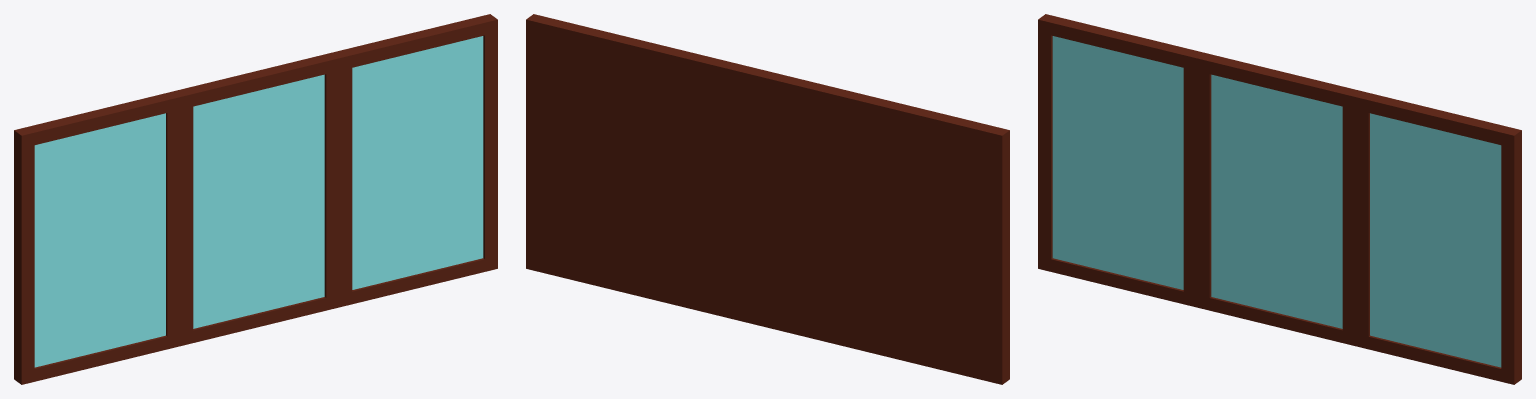
The model's file is window.fbx.
3 renders of one model, left to right at view 1: azimuth 30°, elevation 25°; view 2: azimuth 150°, elevation 25°; view 3: azimuth 330°, elevation 25°, orthographic.
Parts seen in each view (by area): view 1: Window; view 2: Window; view 3: Window.
Part boxes in pixels (x1,y1,x2,y2): Window: (14, 14, 497, 384); Window: (526, 14, 1009, 384); Window: (1038, 14, 1521, 384).
Bounding box in the file's own units: 180 × 90 × 5.
